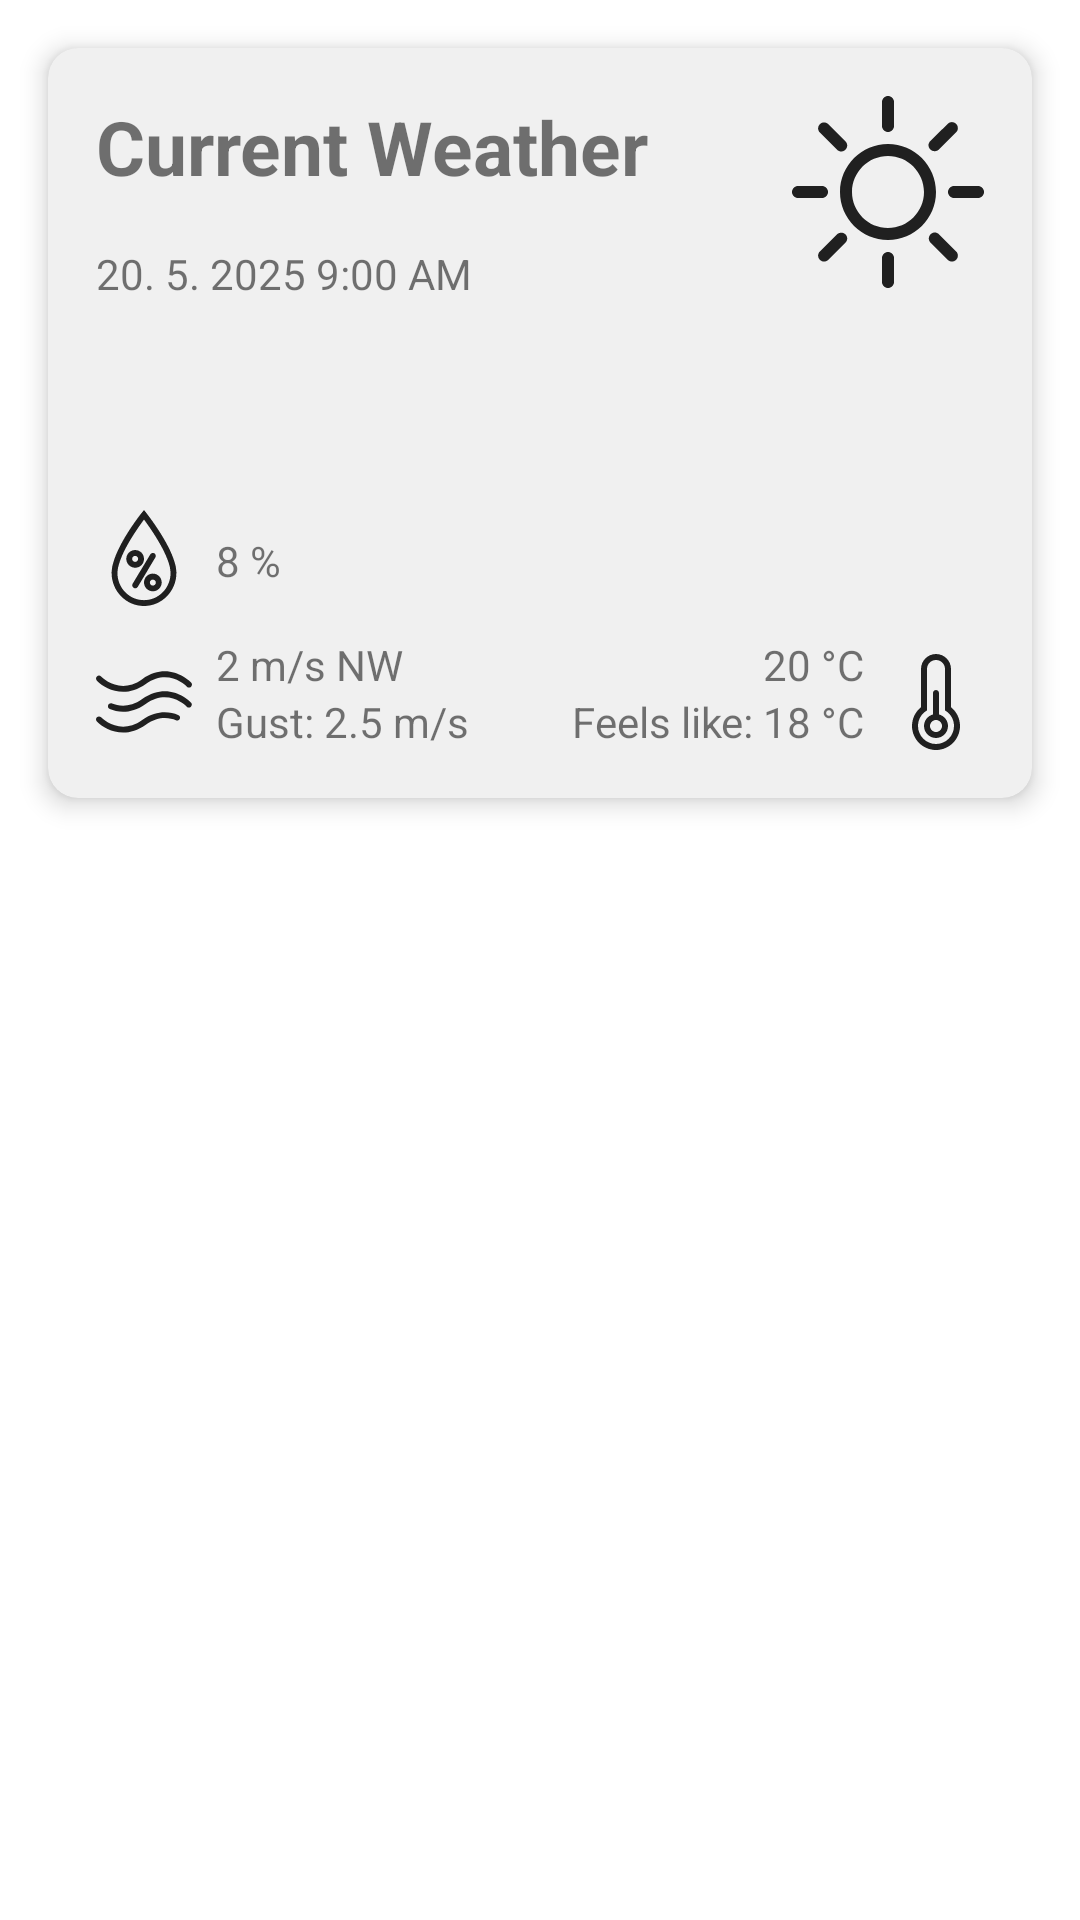

Named icons in this screenshot (1080 × 1920) and their centers, point (x, y):
Humidity: point (144, 558)
Sunny: point (888, 192)
Temperature: point (936, 702)
Wind: point (144, 702)
